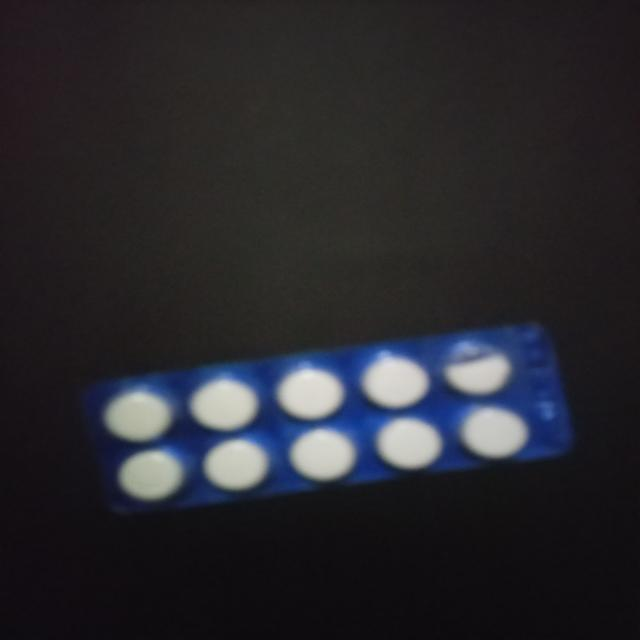defect: (438, 337, 517, 398)
